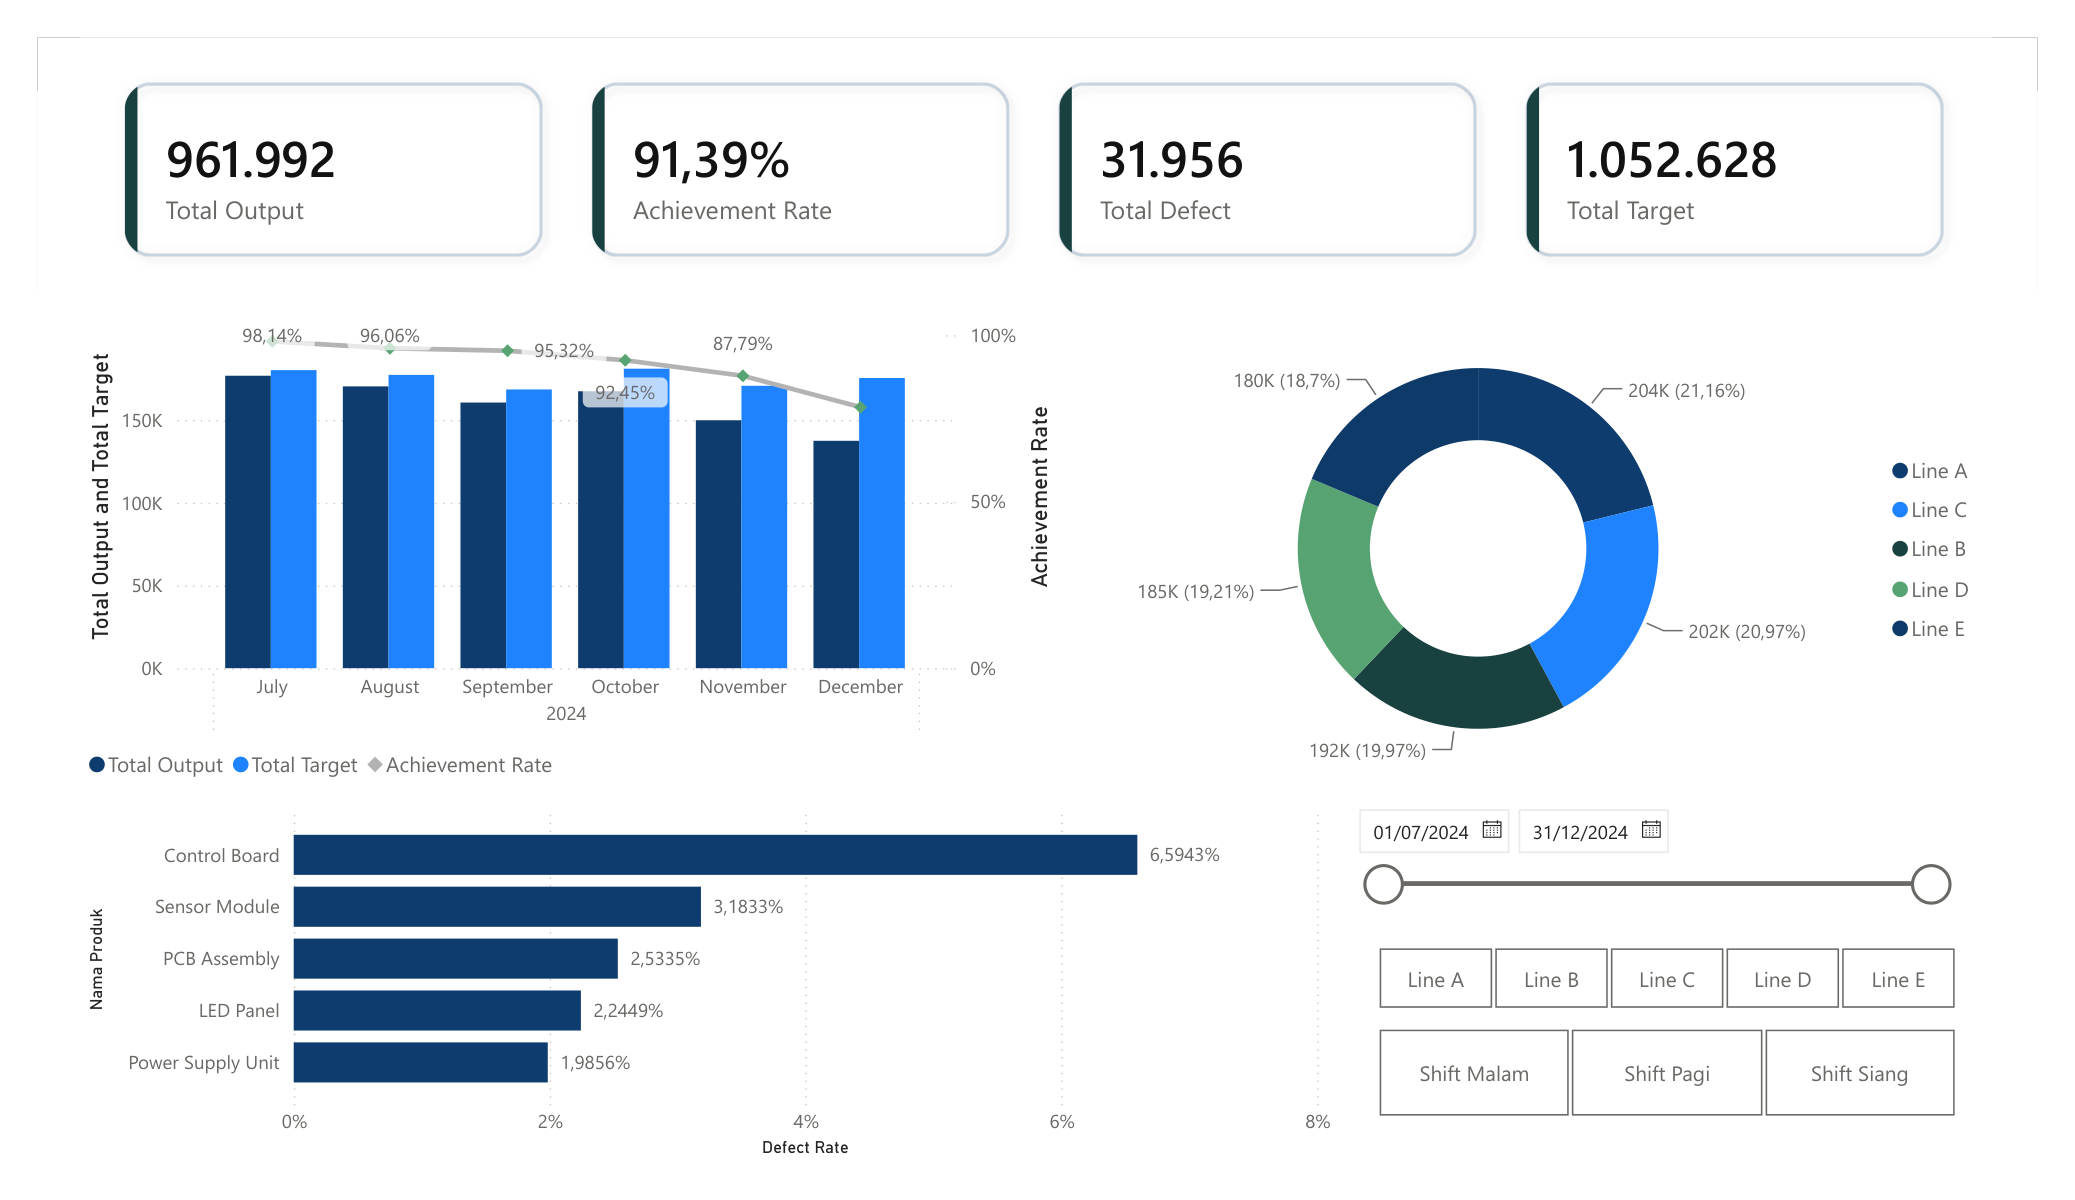

This screenshot's page, from the dashboard's own definition file:
{"tool":"powerbi","page":{"name":"Excecutive Production Summary","canvas":[1280,720],"ordinal":0},"visuals":[{"type":"cardVisual","fields":{"Data":["_Measures.Total Output","_Measures.Achievement Rate","_Measures.Total Defect","_Measures.Total Target"]},"box":[26.6,0,1224.4,169.8],"z":0},{"type":"lineClusteredColumnComboChart","fields":{"Y2":["_Measures.Achievement Rate"],"Category":["production_fact_cleaned.production_date.Variation.Date Hierarchy.Year","production_fact_cleaned.production_date.Variation.Date Hierarchy.Month"],"Y":["_Measures.Total Output","_Measures.Total Target"]},"box":[26.9,203.8,599.6,281.3],"z":1000},{"type":"donutChart","fields":{"Category":["line_dim_cleaned.line_name"],"Y":["_Measures.Total Output"]},"box":[668.6,203.8,597.9,269.5],"z":2000},{"type":"barChart","fields":{"Category":["product_dim_cleaned.product_name"],"Y":["_Measures.Defect Rate"]},"box":[26.6,484.4,806.4,236.3],"z":3000},{"type":"slicer","fields":{"Values":["production_fact_cleaned.production_date"]},"box":[833,484.4,400.2,85.7],"z":4000},{"type":"slicer","fields":{"Values":["line_dim_cleaned.line_name"]},"box":[833,576,418,51.7],"z":5000},{"type":"slicer","fields":{"Values":["shift_dim_cleaned.shift_name"]},"box":[833,627.7,418,69.4],"z":6000}]}

Visuals, with their boxes on the page's 1280x720 design canvas (x1, y1, x2, y2). These are canvas units, not pixel positions in the 2075x1200 screenshot, which may show the page scaled, cropped or inside an application window:
cardVisual - _Measures.Total Output x _Measures.Achievement Rate: (x1=27, y1=0, x2=1251, y2=170)
lineClusteredColumnComboChart - _Measures.Achievement Rate x production_fact_cleaned.production_date.Variation.Date Hierarchy.Year: (x1=27, y1=204, x2=626, y2=485)
donutChart - line_dim_cleaned.line_name x _Measures.Total Output: (x1=669, y1=204, x2=1266, y2=473)
barChart - product_dim_cleaned.product_name x _Measures.Defect Rate: (x1=27, y1=484, x2=833, y2=721)
slicer - production_fact_cleaned.production_date: (x1=833, y1=484, x2=1233, y2=570)
slicer - line_dim_cleaned.line_name: (x1=833, y1=576, x2=1251, y2=628)
slicer - shift_dim_cleaned.shift_name: (x1=833, y1=628, x2=1251, y2=697)
